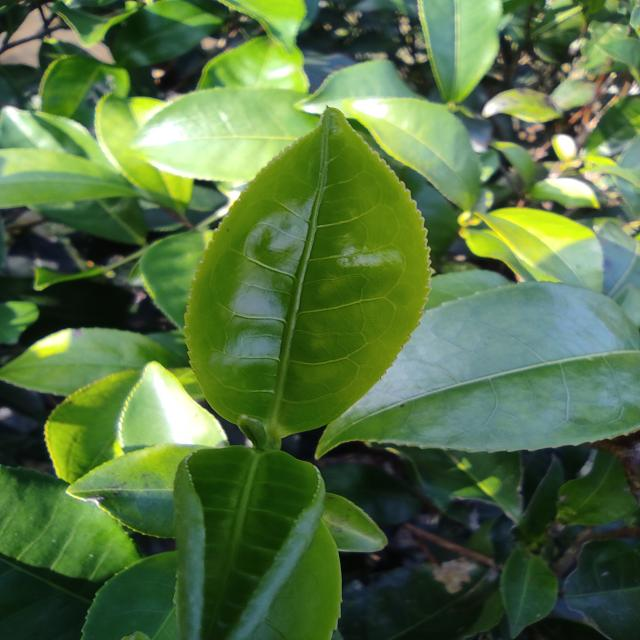Category B(2-4 days): (167, 90, 444, 459)
